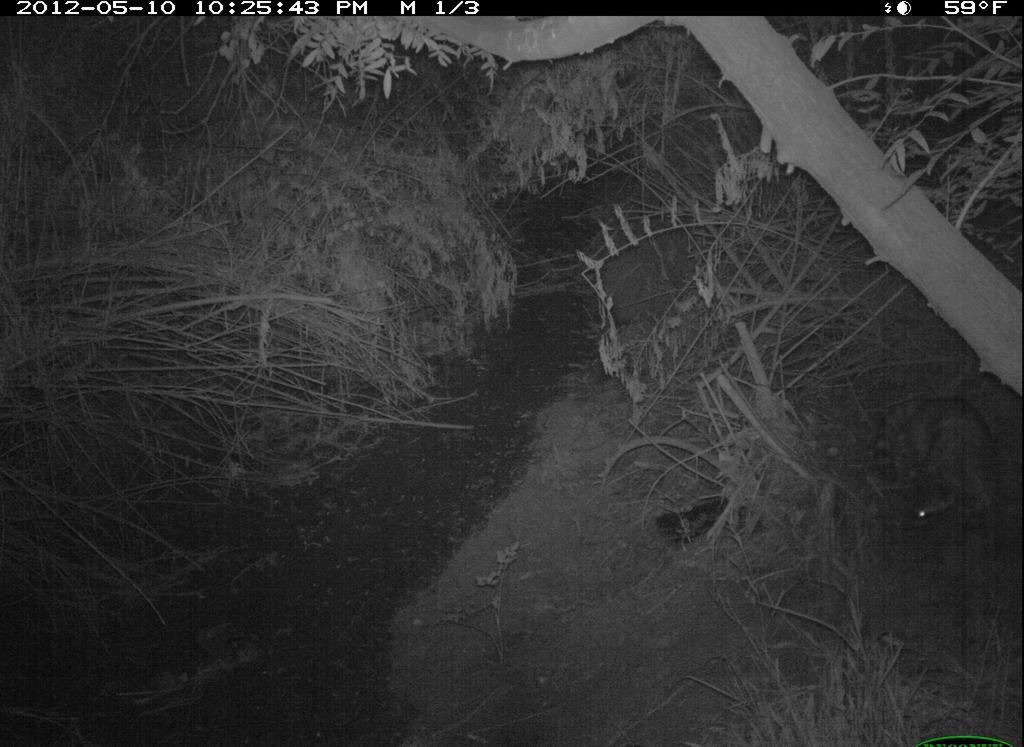raccoon: (866, 381, 1019, 556)
